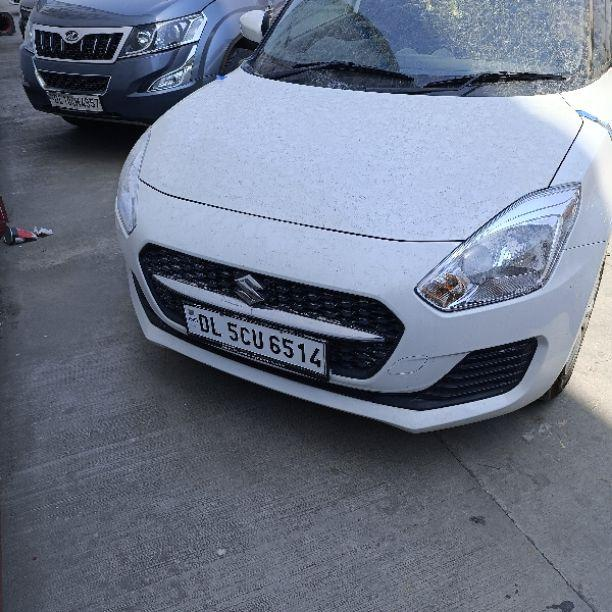license_plate: (181, 302, 329, 383)
